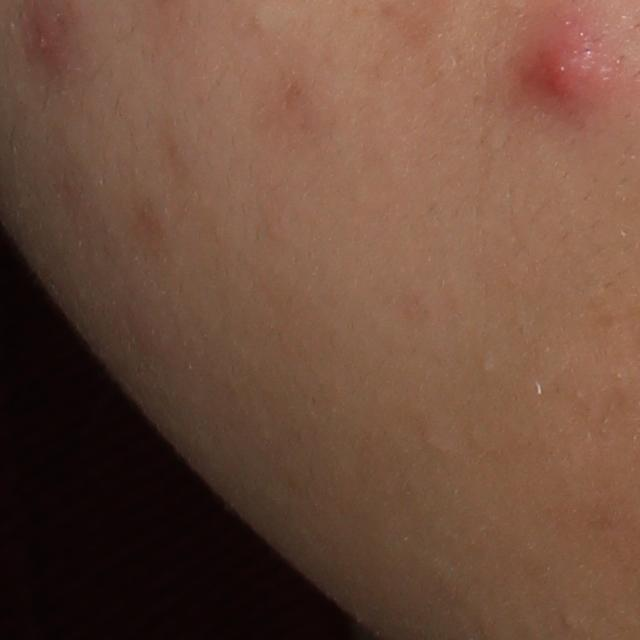comedo: (247, 4, 273, 32), (478, 356, 501, 377), (561, 608, 583, 629), (423, 432, 444, 453)
papule: (513, 24, 611, 113), (30, 10, 72, 69)
